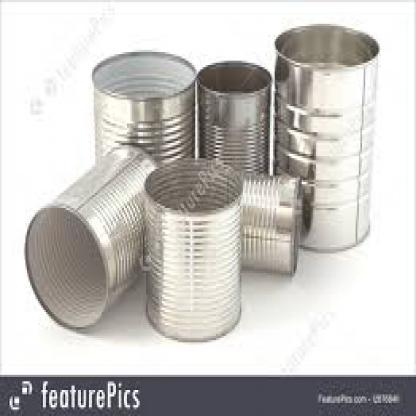METAL: (22, 141, 170, 329), (273, 21, 378, 254), (144, 158, 240, 338), (160, 169, 298, 277), (89, 48, 195, 173), (195, 59, 267, 184)
